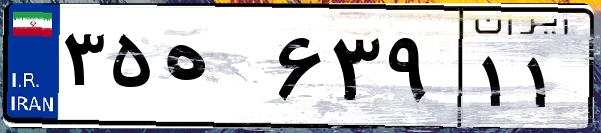1: (475, 38, 525, 113), (525, 38, 570, 115)
3: (330, 28, 385, 110), (57, 26, 110, 100)
5: (110, 28, 158, 98)
6: (270, 28, 330, 110)
9: (385, 28, 445, 110)
ه: (158, 20, 270, 120)
